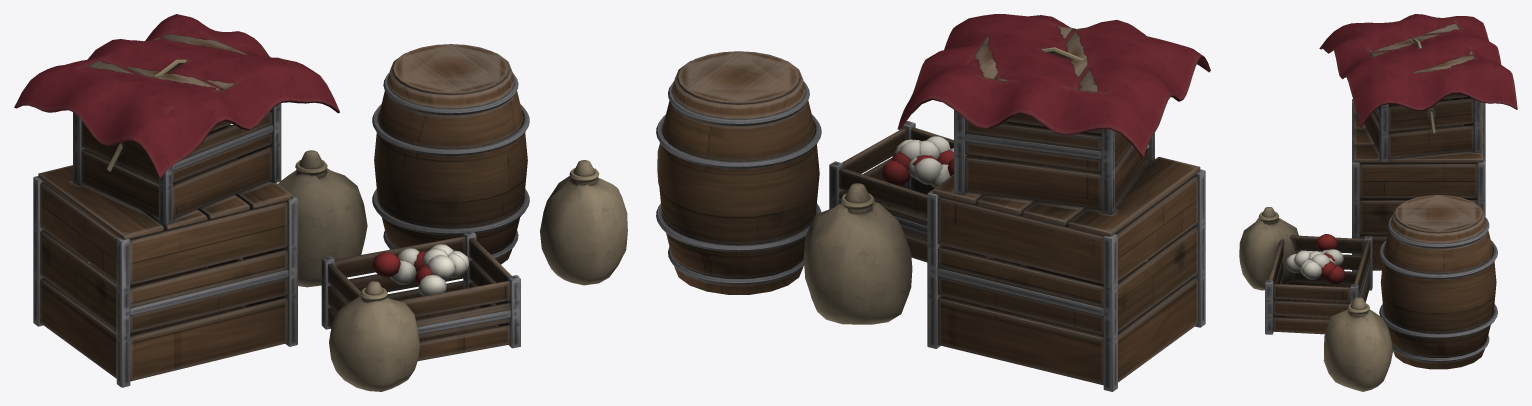
File: CratePile.fbx
3 renders of one model, left to right at view 1: azimuth 30°, elevation 25°; view 2: azimuth 150°, elevation 25°; view 3: azimuth 270°, elevation 25°, orthographic. The views are drawn at different scales.
Visible parts, largest first — view 1: CratePile; view 2: CratePile; view 3: CratePile.
Part boxes in pixels (x1,y1,x2,y2): CratePile: (14, 14, 627, 391); CratePile: (656, 14, 1210, 391); CratePile: (1239, 14, 1517, 391).
Size of the model in its own units: 466 by 226 by 279.
